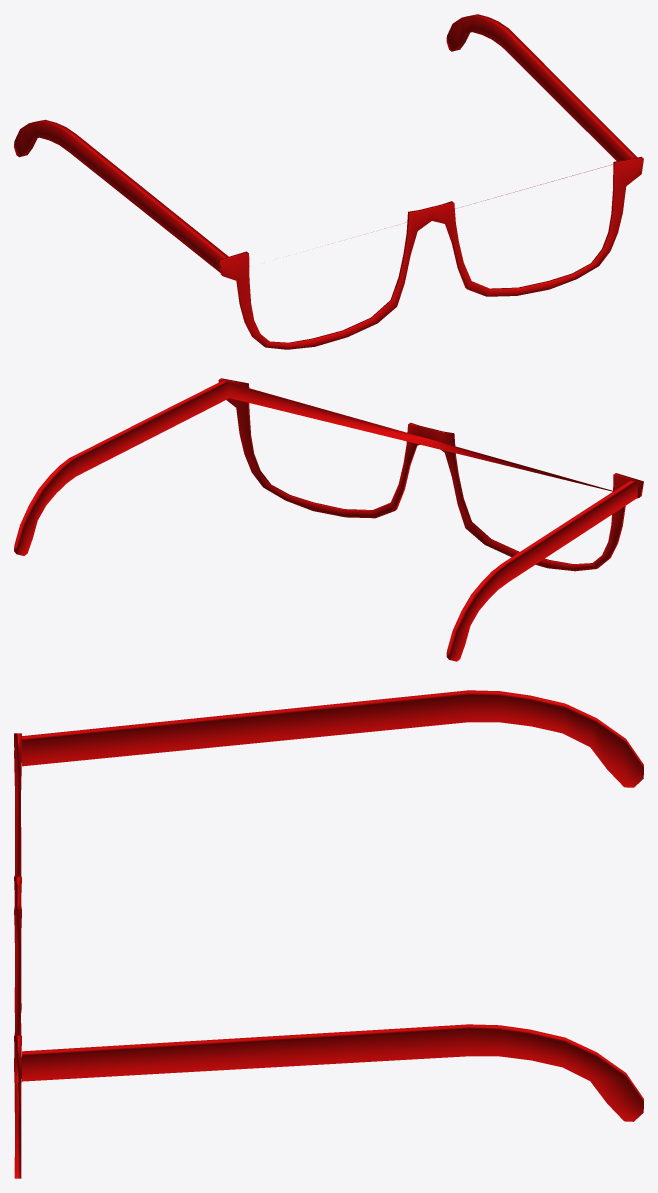
File: UpperFace_SimpleHalfMoon.glb
3 renders of one model, top to bottom at view 1: azimuth 30°, elevation 25°; view 2: azimuth 150°, elevation 25°; view 3: azimuth 270°, elevation 25°, orthographic. The views are drawn at different scales.
Visible parts, largest first — view 1: UpperFace_SimpleHalfMoon; view 2: UpperFace_SimpleHalfMoon; view 3: UpperFace_SimpleHalfMoon.
Boxes of the visible parts, x1,y1,x2,y2 form: UpperFace_SimpleHalfMoon: (14,14,643,349); UpperFace_SimpleHalfMoon: (14,378,643,661); UpperFace_SimpleHalfMoon: (14,690,643,1178).
Size of the model in its own units: 0.1863 by 0.0531 by 0.1457.
